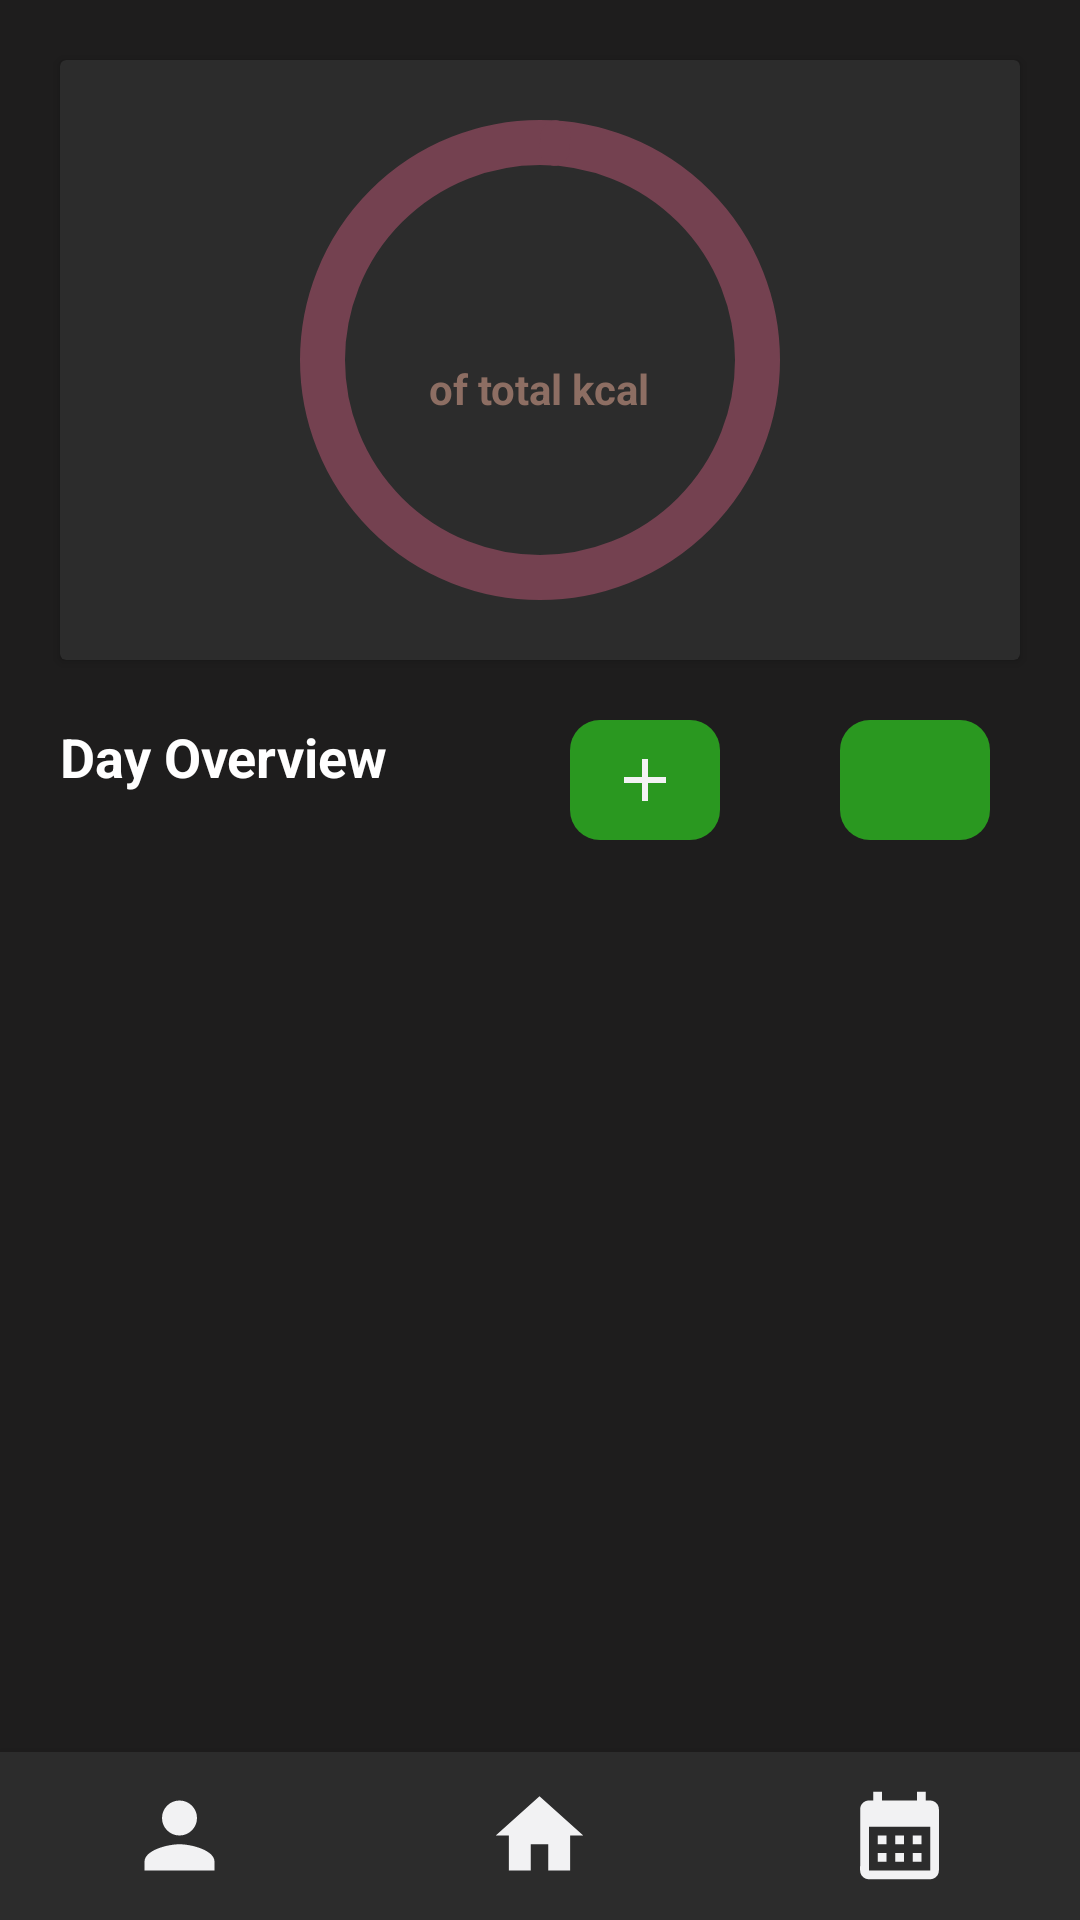

Icon bounding boxes for this 1080x1920 phone screenshot, format detection(x1, y1, x2, y2):
add: detection(570, 720, 720, 840)
